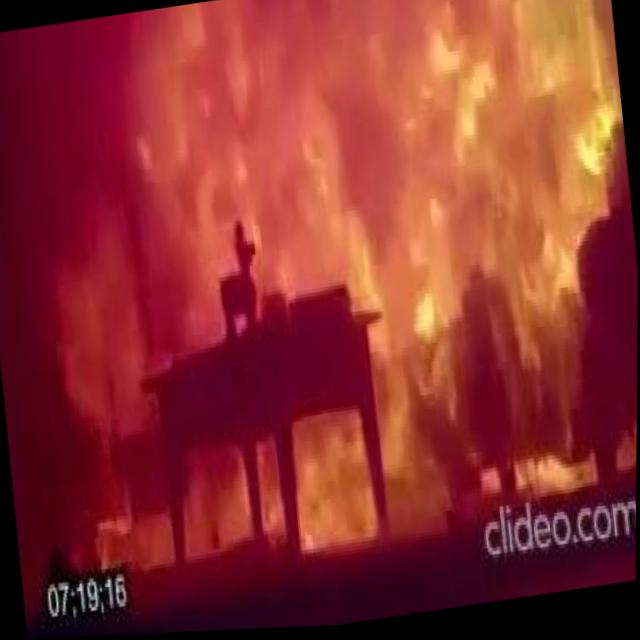fire: (352, 167, 601, 528), (226, 0, 464, 300), (437, 0, 632, 235), (51, 236, 158, 449), (290, 414, 376, 546), (180, 449, 253, 562), (81, 492, 177, 577), (253, 437, 291, 555)
